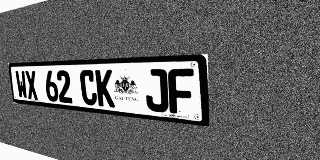2: (56, 70, 72, 103)
6: (44, 70, 59, 102)
C: (79, 70, 98, 106)
F: (168, 69, 195, 115)
J: (144, 69, 169, 113)
K: (95, 70, 115, 108)
W: (15, 71, 28, 99)
X: (25, 71, 39, 100)
